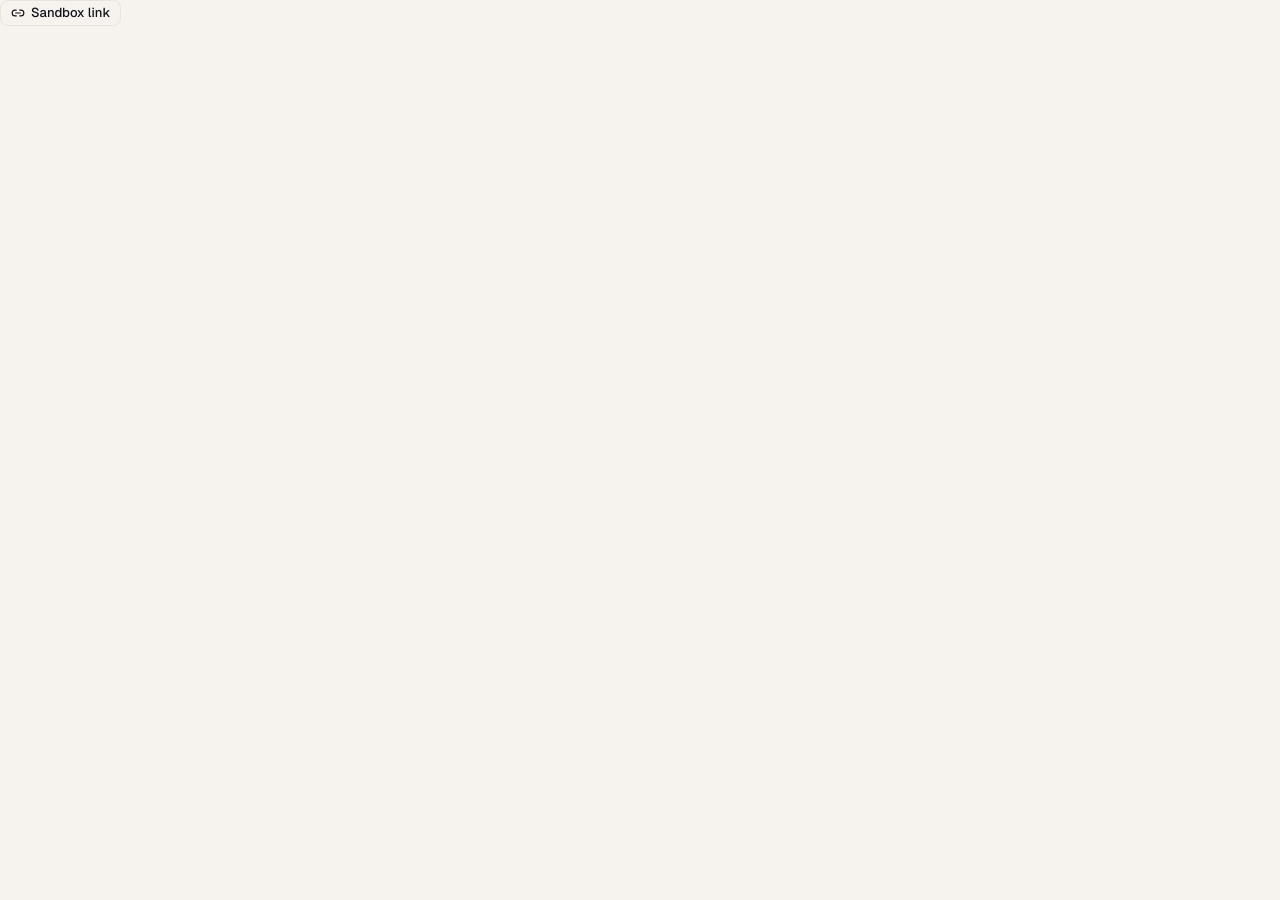
Test case: SandboxLinkDialog › clicking Create link calls the create mutation and shows the resulting URL
This screenshot has width=1280, height=900.
Click the button "Sandbox link".
click(61, 13)  # box [0,0,121,26]
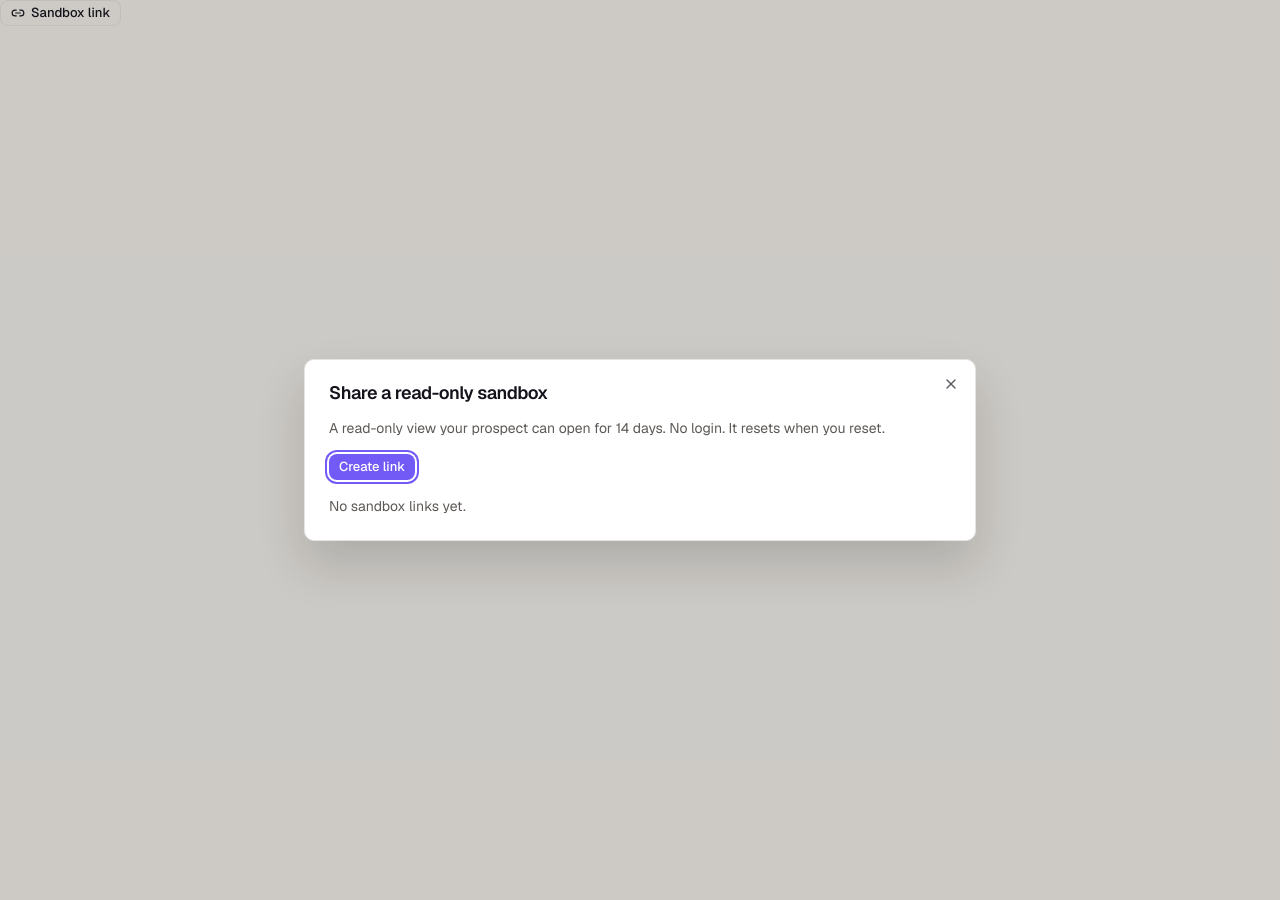
Click the button "Create link".
click(372, 467)  # box [329,454,415,480]
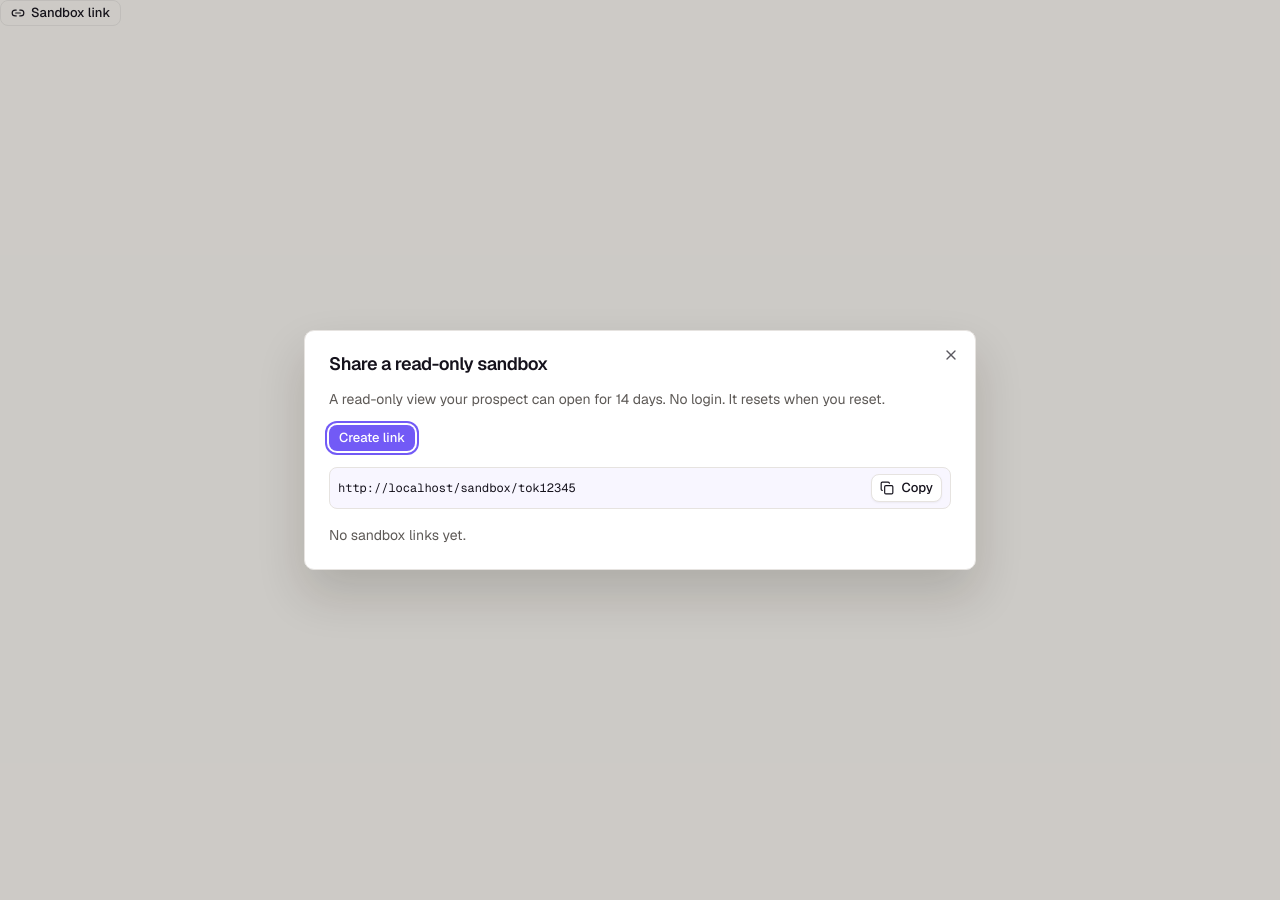
Expected: the text "http://localhost/sandbox/tok12345" is shown, [338,480,576,496]
